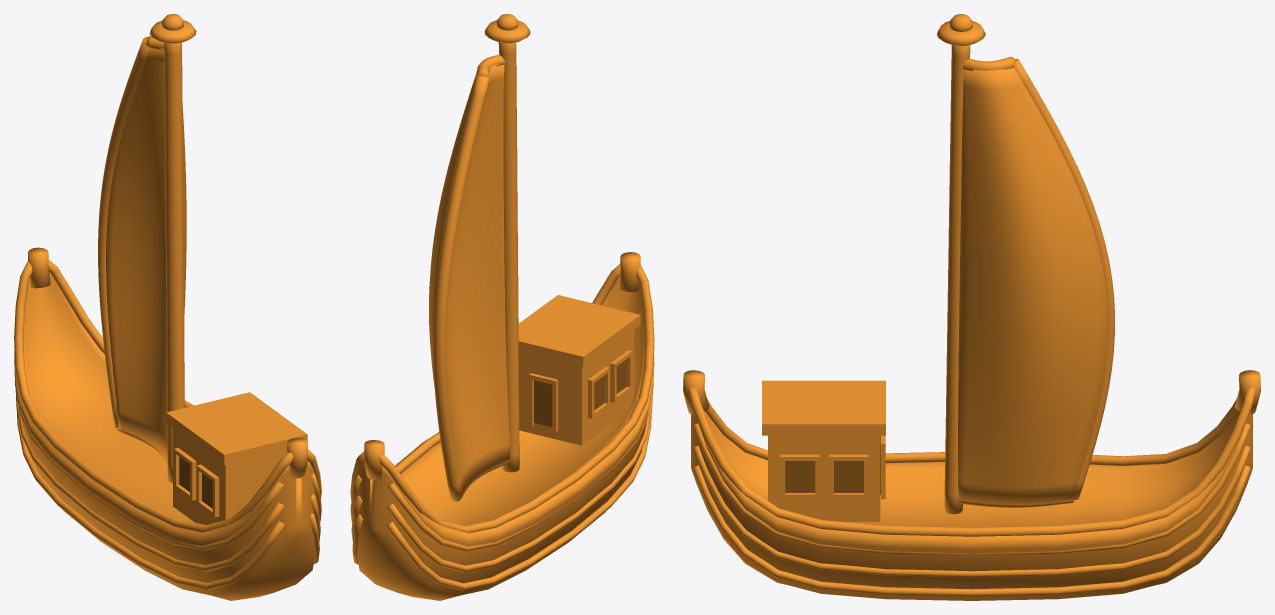
Rendered from ship-orange.fbx.
3 views of the same model, side by side, from view 1: azimuth 30°, elevation 25°; view 2: azimuth 150°, elevation 25°; view 3: azimuth 270°, elevation 25° (orthographic). The views are drawn at different scales.
Visible parts, largest first — view 1: Ship_Plastic_Sculpt, Ship_Window_Recesses; view 2: Ship_Plastic_Sculpt, Ship_Window_Recesses; view 3: Ship_Plastic_Sculpt, Ship_Window_Recesses.
Part boxes in pixels (bbox=[...]): Ship_Plastic_Sculpt: bbox=[14, 14, 321, 600]; Ship_Window_Recesses: bbox=[179, 457, 212, 508]; Ship_Plastic_Sculpt: bbox=[350, 14, 654, 600]; Ship_Window_Recesses: bbox=[534, 359, 626, 427]; Ship_Plastic_Sculpt: bbox=[683, 14, 1260, 600]; Ship_Window_Recesses: bbox=[785, 435, 880, 494].
Size of the model in its own units: 0.009 by 0.028 by 0.026.
